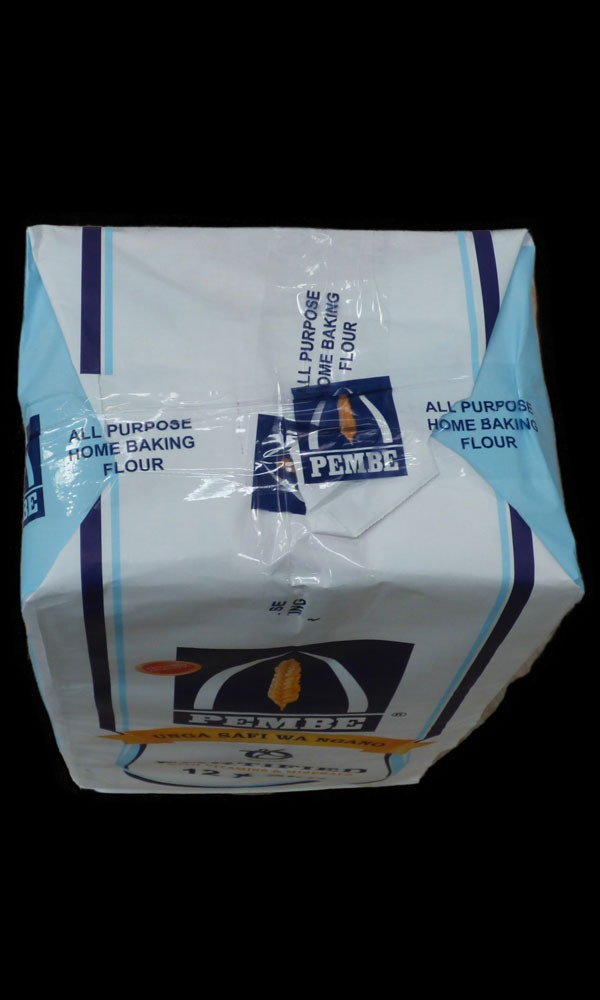wheat_flour_blue_label: (25, 225, 586, 784)
